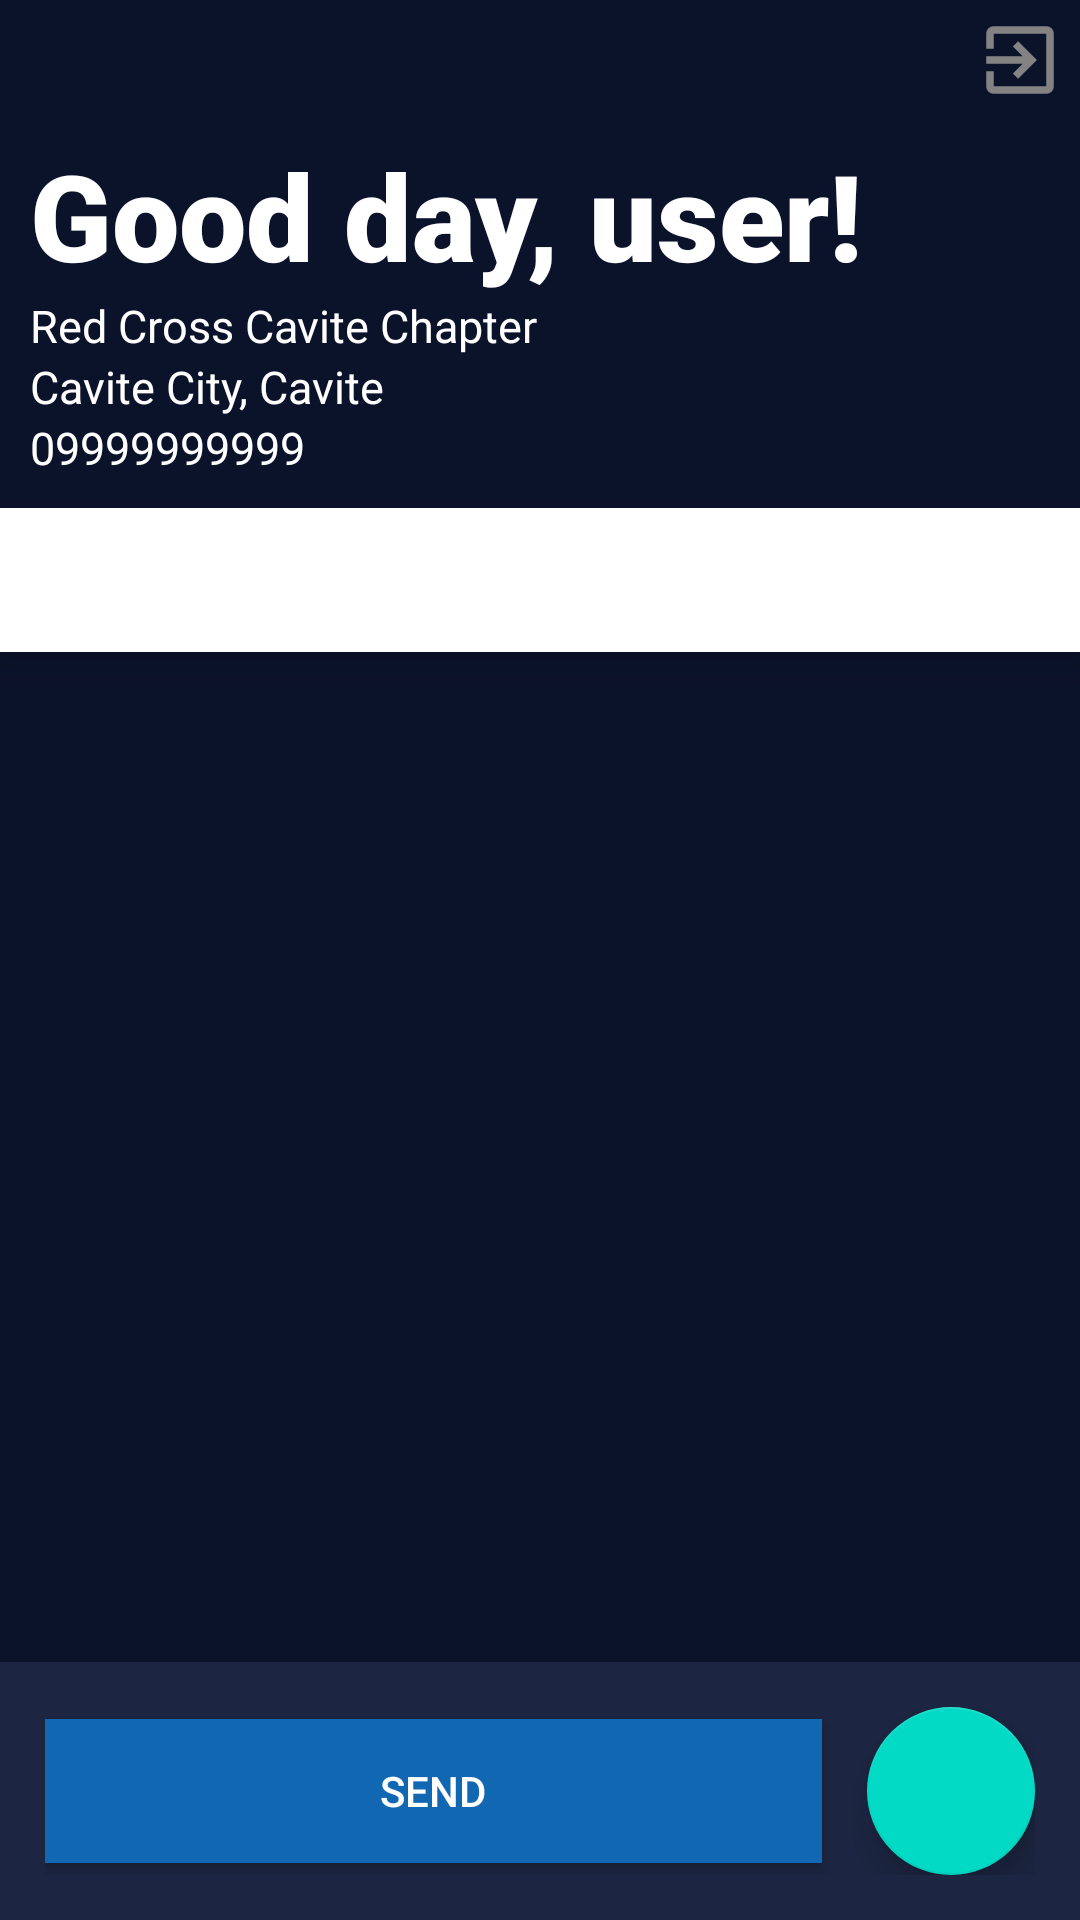

Icon bounding boxes for this 1080 × 1920 phone screenshot, format (x1, y1, x2, y2):
exit to app: (986, 26, 1054, 94)
